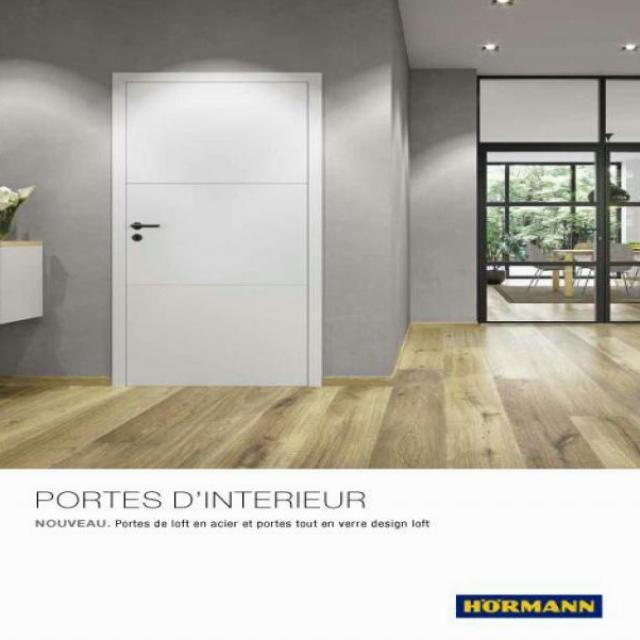door: (111, 71, 322, 388)
